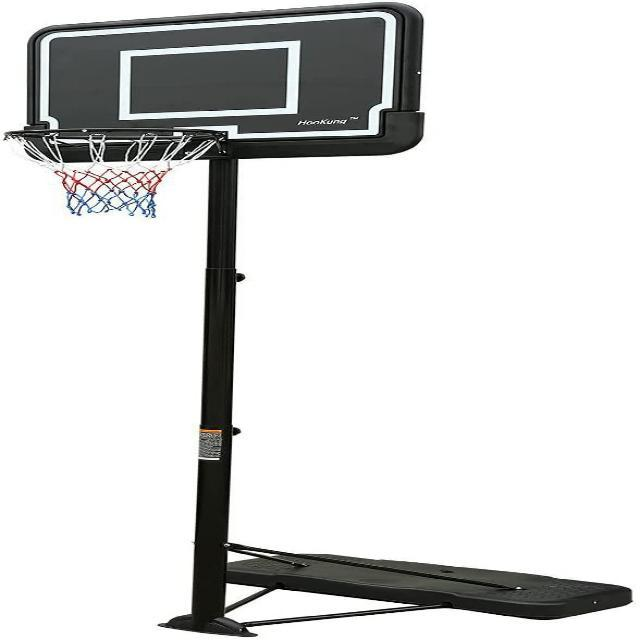hoop: (7, 128, 226, 218)
